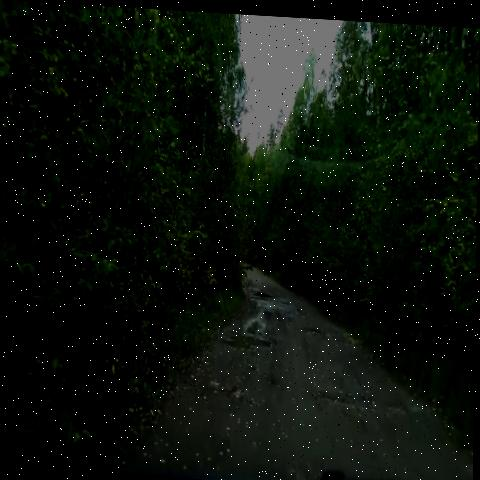pothole: (311, 381, 377, 416), (218, 324, 283, 359), (218, 371, 257, 406), (246, 275, 276, 313), (299, 305, 326, 346)
